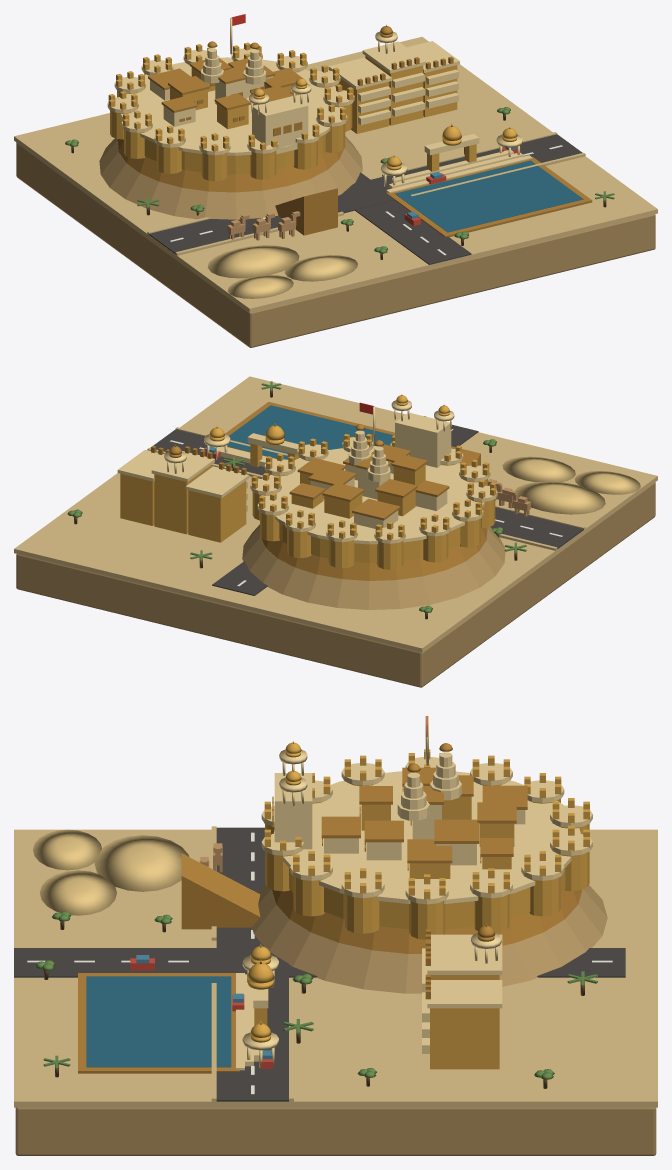
The model's file is jaisalmer_tile.glb.
3 views of the same model, one above another, from view 1: azimuth 30°, elevation 25°; view 2: azimuth 150°, elevation 25°; view 3: azimuth 270°, elevation 25° (orthographic). The views are drawn at different scales.
Parts seen in each view (by area): view 1: jaisalmer_tile; view 2: jaisalmer_tile; view 3: jaisalmer_tile.
Boxes of the visible parts, x1=… form: jaisalmer_tile: x1=14, y1=14, x2=657, y2=347; jaisalmer_tile: x1=14, y1=376, x2=657, y2=687; jaisalmer_tile: x1=14, y1=716, x2=657, y2=1155.
Size of the model in its own units: 12 by 5.31 by 12.
